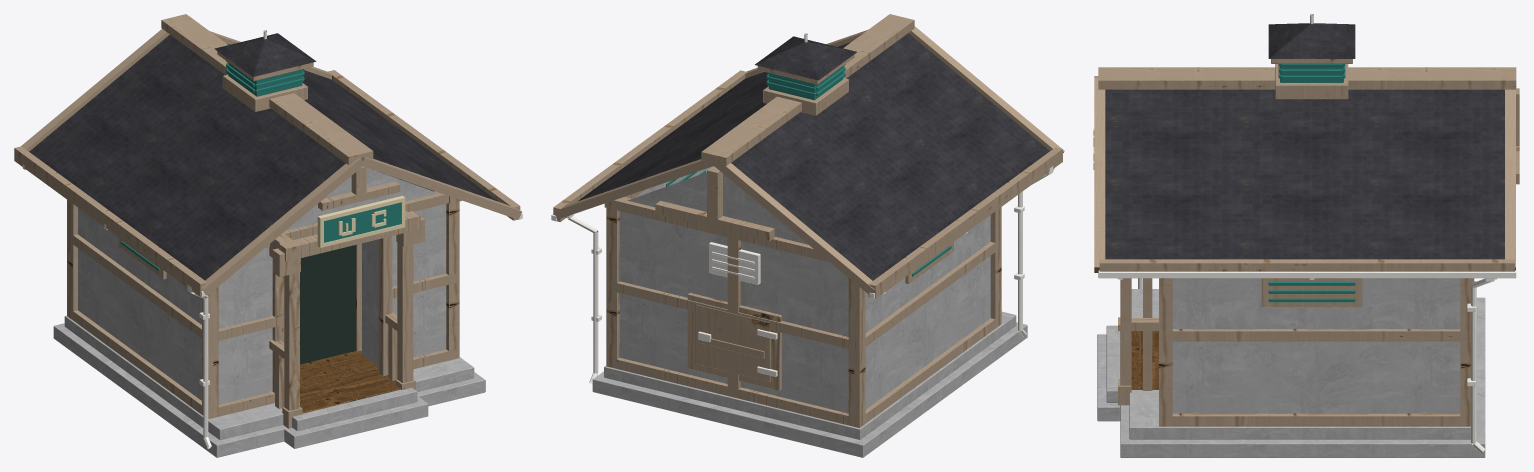
The model's file is restroom.glb.
3 renders of one model, left to right at view 1: azimuth 30°, elevation 25°; view 2: azimuth 150°, elevation 25°; view 3: azimuth 270°, elevation 25°, orthographic. The views are drawn at different scales.
Parts seen in each view (by area): view 1: Static_RestroomRoot_roof, Static_RestroomRoot_timber, Static_RestroomRoot_plaster, Restroom_Privacy_Baffle, Restroom_Deck, Static_RestroomRoot_paint_teal, Restroom_Sign_Details, Static_RestroomRoot_metal; view 2: Static_RestroomRoot_plaster, Static_RestroomRoot_roof, Static_RestroomRoot_timber, Static_RestroomRoot_metal, Static_RestroomRoot_paint_teal; view 3: Static_RestroomRoot_roof, Static_RestroomRoot_plaster, Static_RestroomRoot_timber, Static_RestroomRoot_metal, Static_RestroomRoot_paint_teal, Restroom_Deck.
Boxes of the visible parts, x1,y1,x2,y2 form: Static_RestroomRoot_roof: (29, 33, 497, 280); Static_RestroomRoot_timber: (14, 14, 521, 428); Static_RestroomRoot_plaster: (53, 168, 485, 457); Restroom_Privacy_Baffle: (300, 245, 355, 364); Restroom_Deck: (300, 350, 400, 413); Static_RestroomRoot_paint_teal: (120, 61, 404, 271); Restroom_Sign_Details: (317, 195, 405, 247); Static_RestroomRoot_metal: (22, 30, 522, 448); Static_RestroomRoot_plaster: (592, 166, 1027, 457); Static_RestroomRoot_roof: (578, 33, 1049, 280); Static_RestroomRoot_timber: (553, 14, 1064, 427); Static_RestroomRoot_metal: (551, 33, 1054, 384); Static_RestroomRoot_paint_teal: (666, 64, 951, 276); Static_RestroomRoot_roof: (1105, 23, 1504, 259); Static_RestroomRoot_plaster: (1097, 278, 1485, 457); Static_RestroomRoot_timber: (1094, 59, 1519, 426); Static_RestroomRoot_metal: (1098, 14, 1516, 452); Static_RestroomRoot_paint_teal: (1268, 64, 1355, 302); Restroom_Deck: (1131, 331, 1158, 389).
Bounding box in the file's own units: 0.909 × 0.895 × 0.934.
8 materials, 5 textured.
